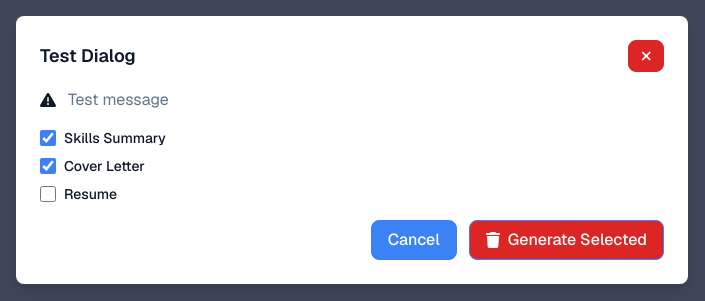
Test: ConfirmationDialog with Selective Generation › disables confirm button when no items are selected
Click the checkbox labelled "Skills Summary": (48, 138) [40, 130, 56, 146]
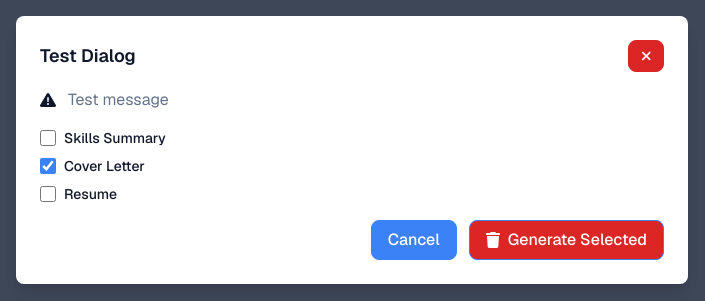
Click the checkbox labelled "Cover Letter": (48, 166) [40, 158, 56, 174]
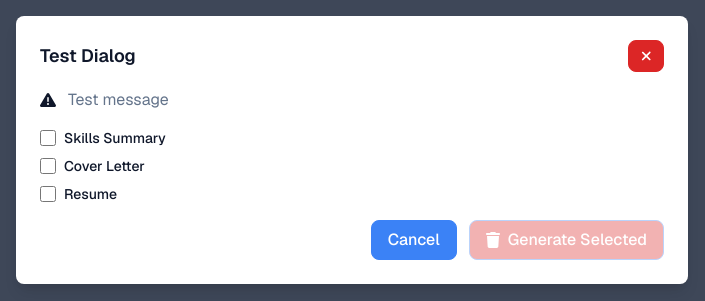
expect the button "Generate Selected" is disabled: met, box [469, 220, 664, 260]
